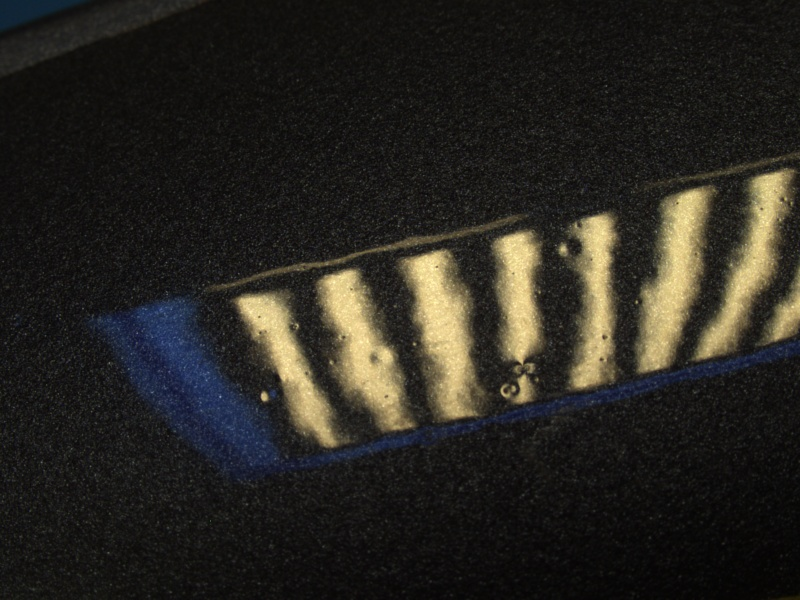bad: (552, 228, 590, 267), (507, 353, 546, 383), (491, 378, 523, 407)
